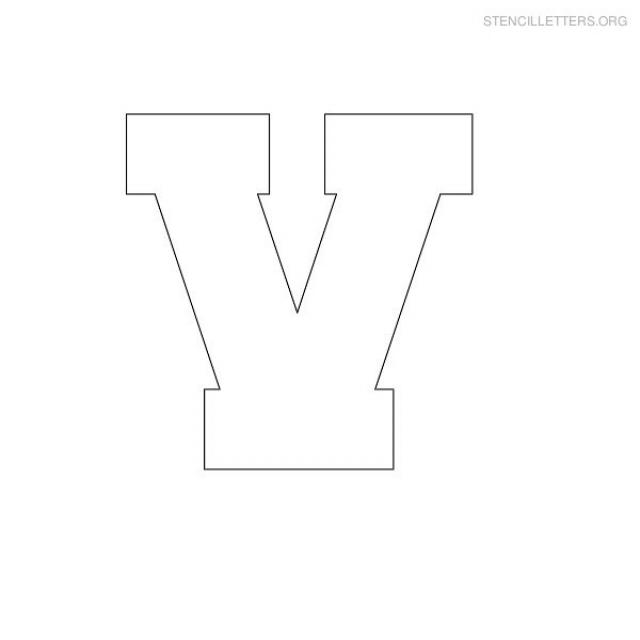V: (84, 43, 532, 541)
